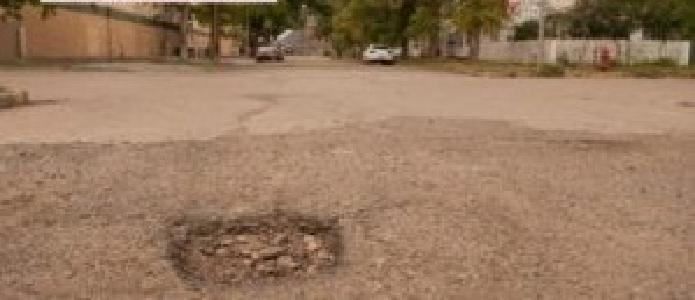pothole: (164, 209, 345, 289)
